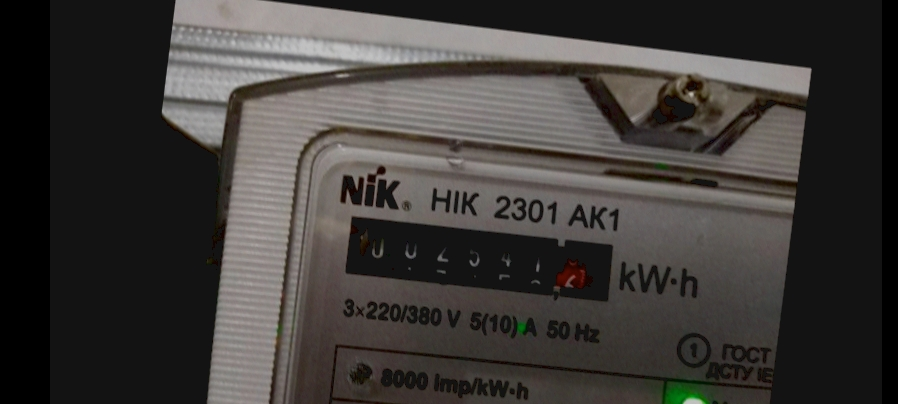0: (401, 227, 424, 263), (370, 230, 391, 260)
1: (529, 240, 549, 275)
2: (432, 230, 457, 267)
4: (498, 237, 519, 270)
5: (466, 236, 486, 270)
6: (562, 268, 580, 291)
screen: (330, 196, 638, 322)
